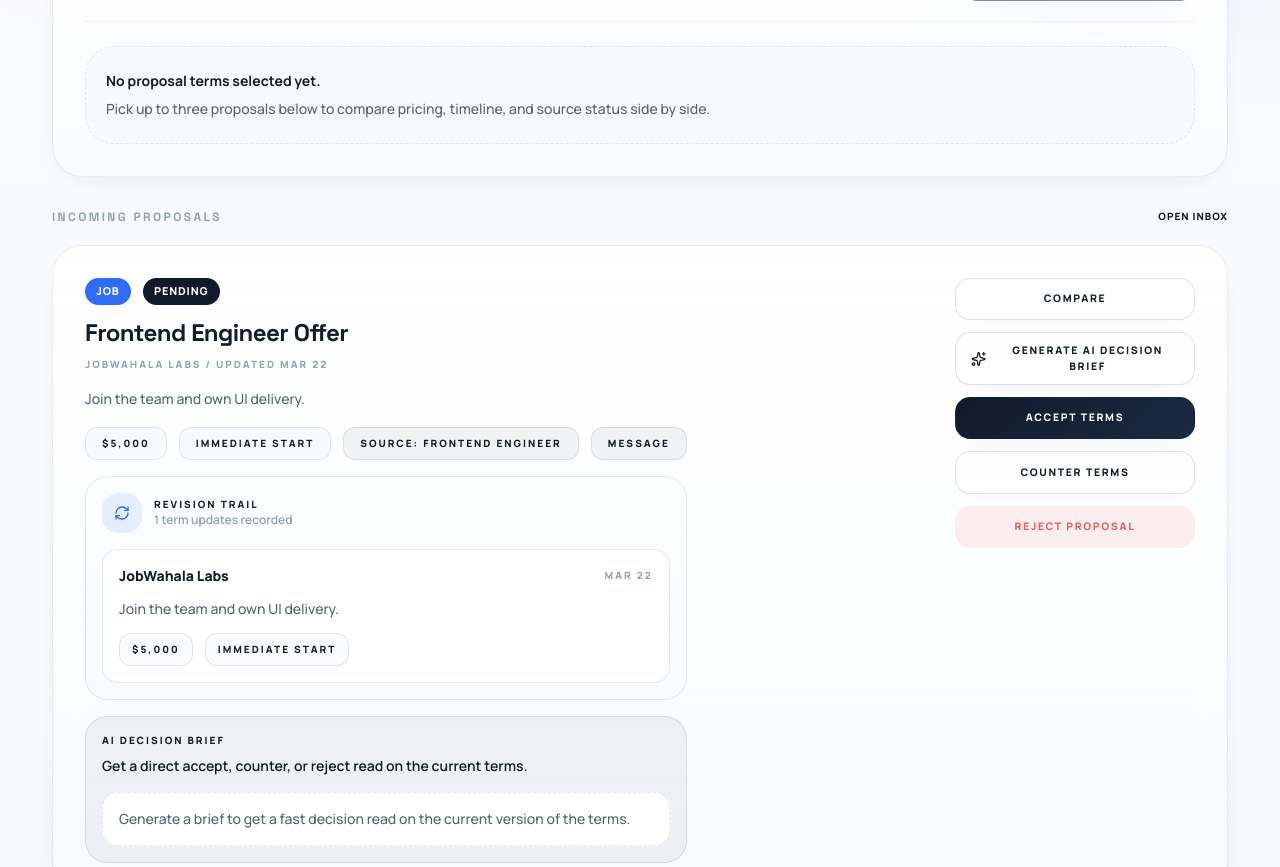
Test case: Proposals negotiation flow › accepts an incoming proposal and reloads the proposal workspace
The image size is (1280, 867).
(page scrolled)
Expected: the heading "Frontend Engineer Offer" is shown, top-left (85, 317), bottom-right (348, 348)
Click the button "Accept Terms" at (1075, 418), box top-left (955, 397), bottom-right (1195, 439)
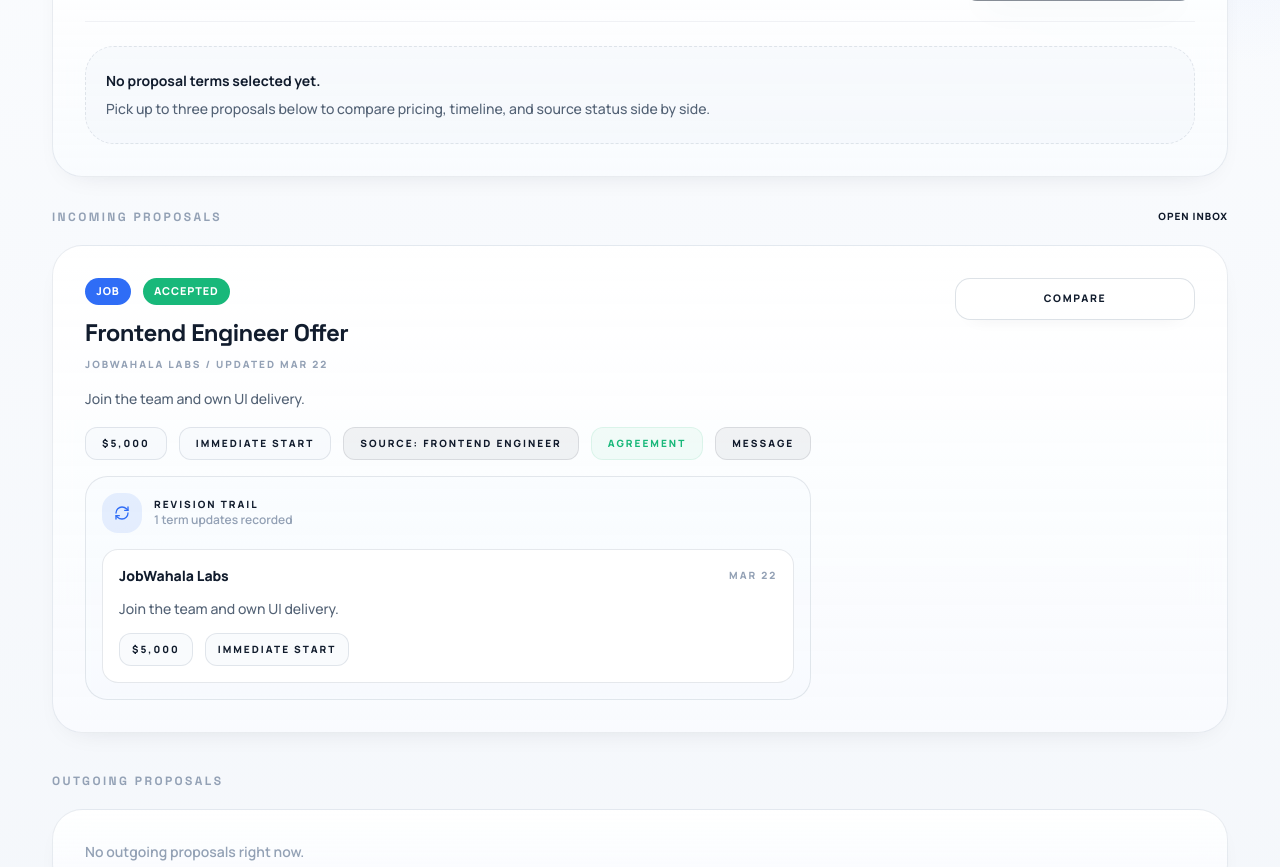
Expected: the text "ACCEPTED" is shown, top-left (143, 278), bottom-right (230, 305)
